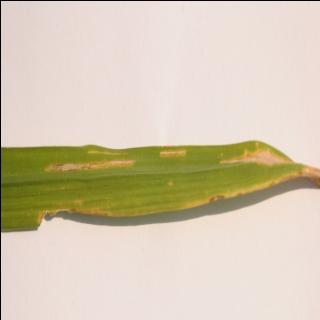Hawar-Daun: (176, 164, 320, 216), (41, 150, 137, 176), (34, 198, 128, 220), (217, 142, 291, 166), (156, 142, 190, 162), (164, 174, 172, 194)
